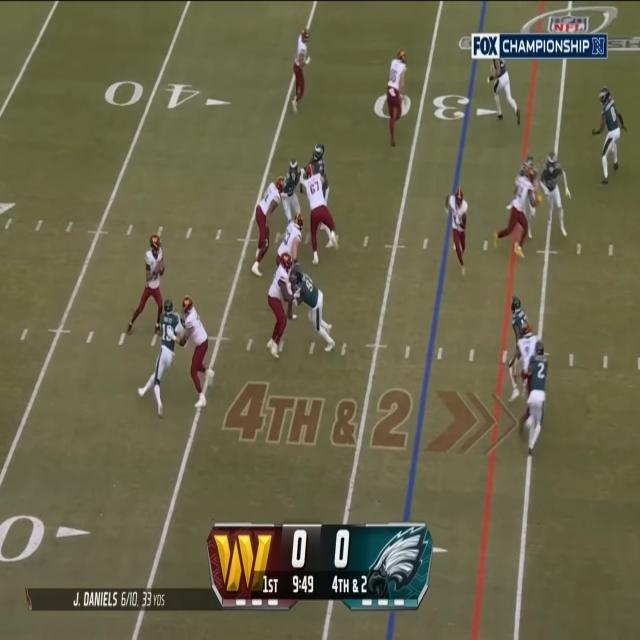Ball: (157, 260, 165, 277)
